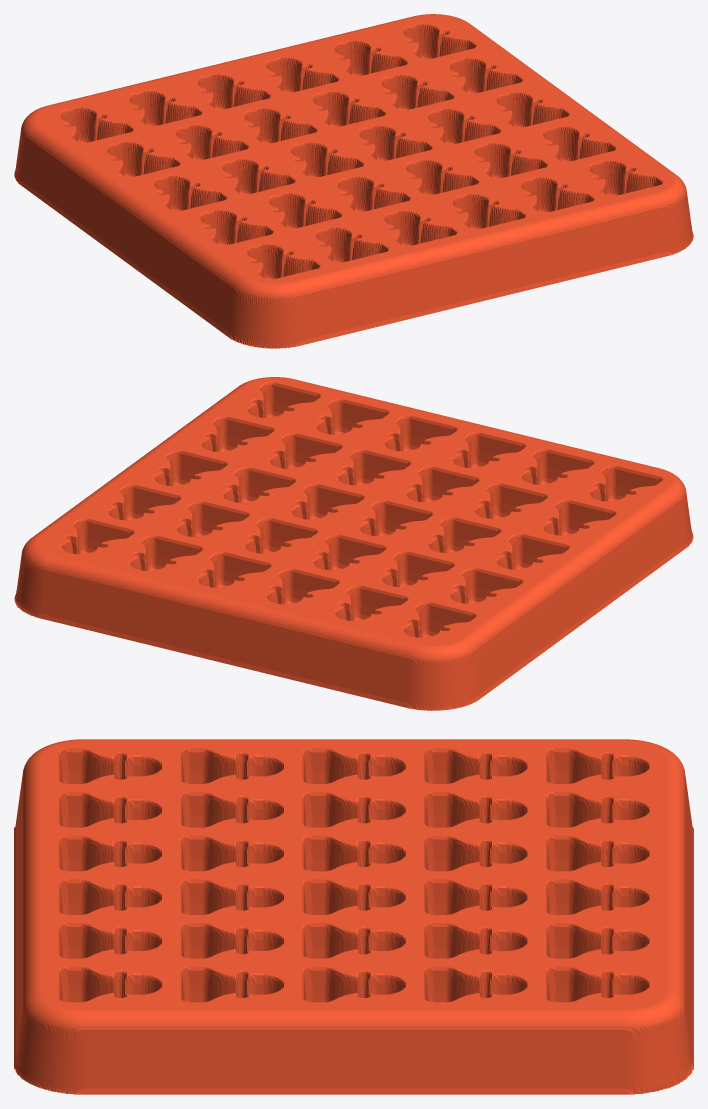
The model's file is mold.glb.
3 views of the same model, one above another, from view 1: azimuth 30°, elevation 25°; view 2: azimuth 150°, elevation 25°; view 3: azimuth 270°, elevation 25° (orthographic). The views are drawn at different scales.
Parts seen in each view (by area): view 1: geometry_0; view 2: geometry_0; view 3: geometry_0.
Part boxes in pixels (bbox=[...]): geometry_0: bbox=[14, 14, 693, 348]; geometry_0: bbox=[14, 377, 693, 710]; geometry_0: bbox=[14, 739, 693, 1094].
Bounding box in the file's own units: 0.0896 × 0.0105 × 0.0882.
